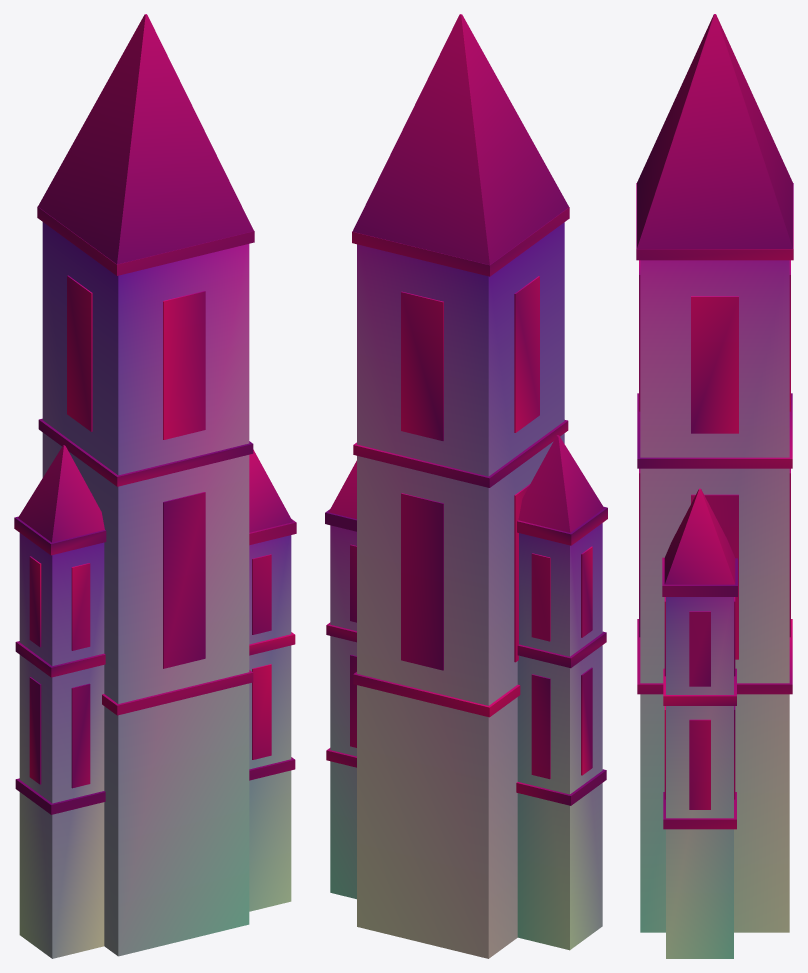
The model's file is radiant_spire_a.glb.
3 renders of one model, left to right at view 1: azimuth 30°, elevation 25°; view 2: azimuth 150°, elevation 25°; view 3: azimuth 270°, elevation 25°, orthographic.
Visible parts, largest first — view 1: radiant_spire, radiant_cap, radiant_spire_win, radiant_spire_gild, radiant_cap.001, radiant_cap.002; view 2: radiant_spire, radiant_cap, radiant_spire_win, radiant_spire_gild, radiant_cap.001, radiant_cap.002; view 3: radiant_spire, radiant_cap, radiant_spire_win, radiant_spire_gild, radiant_cap.002.
Part boxes in pixels (box(x1,y1,x2,y2)): radiant_spire: box(19, 222, 291, 958); radiant_cap: box(38, 14, 253, 264); radiant_spire_win: box(29, 275, 271, 788); radiant_spire_gild: box(14, 206, 296, 814); radiant_cap.001: box(18, 445, 104, 542); radiant_cap.002: box(249, 449, 292, 532); radiant_spire: box(330, 222, 602, 958); radiant_cap: box(352, 14, 568, 264); radiant_spire_win: box(350, 276, 592, 779); radiant_spire_gild: box(325, 207, 607, 805); radiant_cap.001: box(518, 435, 603, 532); radiant_cap.002: box(329, 460, 356, 518); radiant_spire: box(640, 260, 789, 958); radiant_cap: box(637, 14, 792, 248); radiant_spire_win: box(639, 260, 790, 809); radiant_spire_gild: box(636, 183, 793, 829); radiant_cap.002: box(664, 488, 735, 584).
Size of the model in its own units: 11.79 by 41.35 by 6.64.
